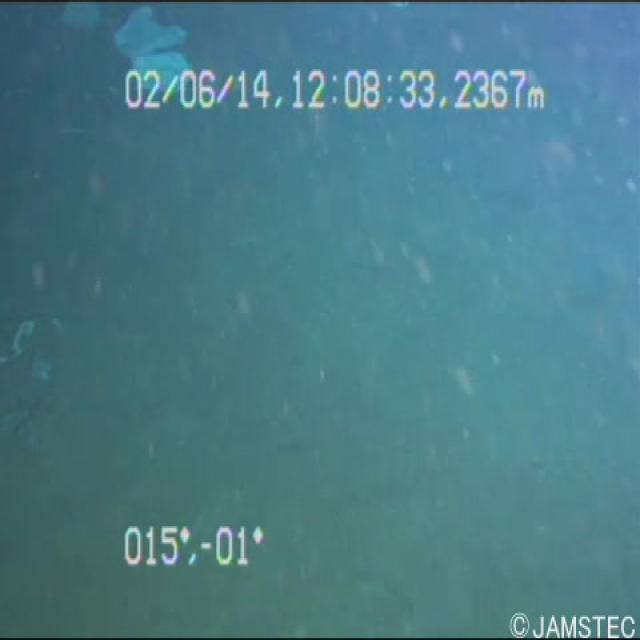plastic: (101, 0, 198, 103)
